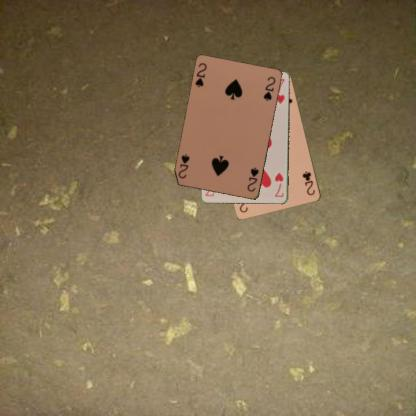2c: (300, 169, 316, 196)
2s: (192, 61, 208, 89), (245, 165, 260, 193)
7h: (272, 170, 285, 198)
